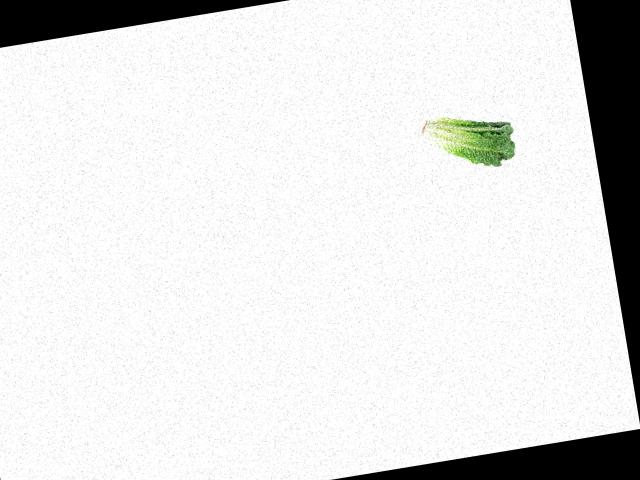lettuce: (414, 103, 520, 177)
